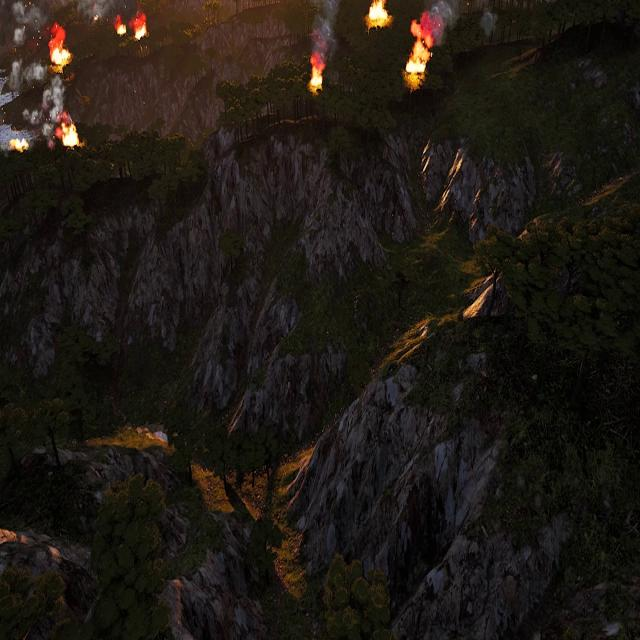fire: (406, 40, 432, 82), (51, 25, 71, 67), (366, 0, 388, 25), (310, 57, 325, 90), (61, 123, 80, 149), (10, 137, 27, 152), (134, 22, 147, 41), (115, 23, 125, 36)
smoke: (8, 59, 66, 143), (415, 0, 500, 41), (311, 0, 344, 60), (11, 0, 50, 46), (78, 0, 141, 19)
